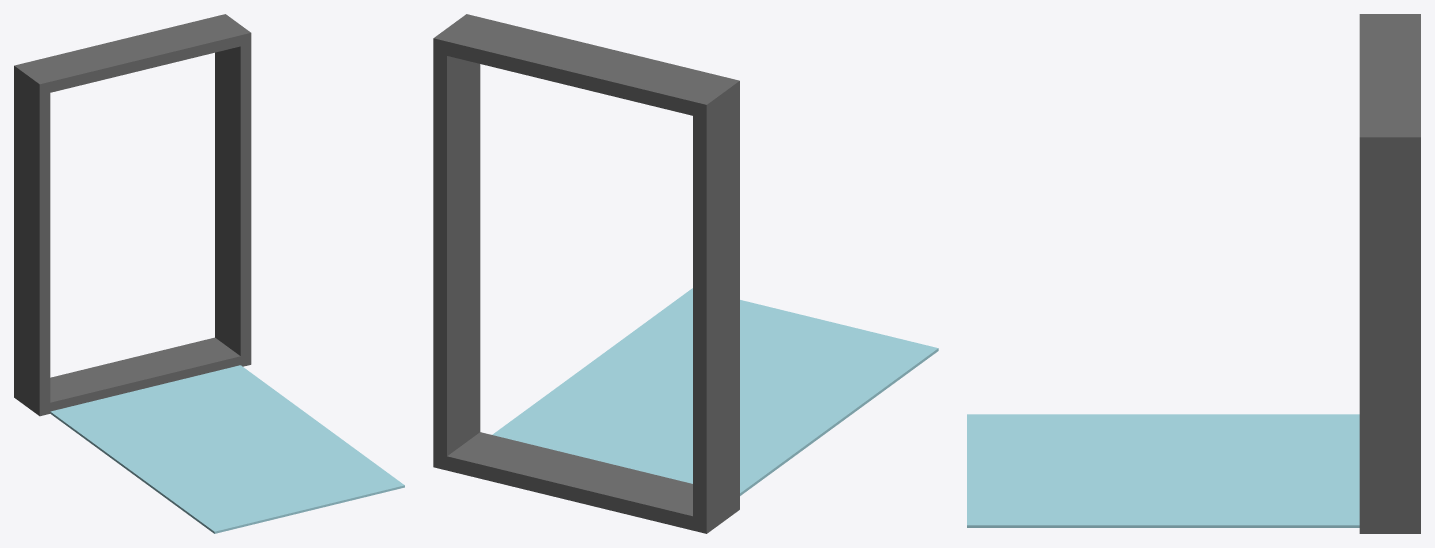
File: fent_01.gltf
3 renders of one model, left to right at view 1: azimuth 30°, elevation 25°; view 2: azimuth 150°, elevation 25°; view 3: azimuth 270°, elevation 25°, orthographic. The views are drawn at different scales.
Visible parts, largest first — view 1: Body1, Body2; view 2: Body1, Body2; view 3: Body2, Body1.
Part boxes in pixels (<box>): Body1: <box>14,14,251,416</box>; Body2: <box>50,365,404,533</box>; Body1: <box>433,14,739,533</box>; Body2: <box>492,288,938,495</box>; Body2: <box>967,414,1359,527</box>; Body1: <box>1359,14,1420,533</box>.
Bounding box in the file's own units: 1 × 1.5 × 1.56.
